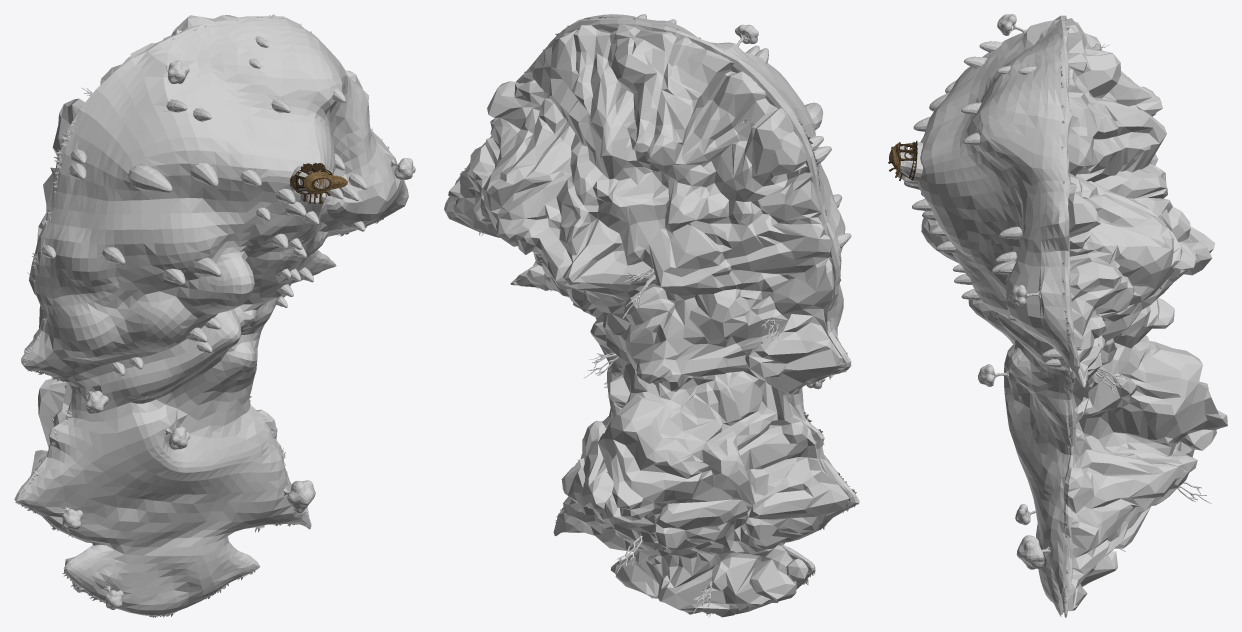
File: Isla flotante .fbx
3 views of the same model, side by side, from view 1: azimuth 30°, elevation 25°; view 2: azimuth 150°, elevation 25°; view 3: azimuth 270°, elevation 25° (orthographic).
Visible parts, largest first — view 1: Object.1, Object.2, Object.6, Object.3; view 2: Object.2, Object.1; view 3: Object.2, Object.1, Object.5.
Part boxes in pixels (left/top/right/bottom): Object.1: left=14, top=15, right=415, bottom=617; Object.2: left=24, top=14, right=362, bottom=599; Object.6: left=289, top=163, right=332, bottom=204; Object.3: left=304, top=171, right=347, bottom=193; Object.2: left=448, top=24, right=849, bottom=617; Object.1: left=444, top=14, right=859, bottom=617; Object.2: left=1064, top=18, right=1227, bottom=611; Object.1: left=903, top=14, right=1086, bottom=617; Object.5: left=897, top=142, right=923, bottom=181.
Bounding box in the file's own units: 53432 × 73620 × 39159.
